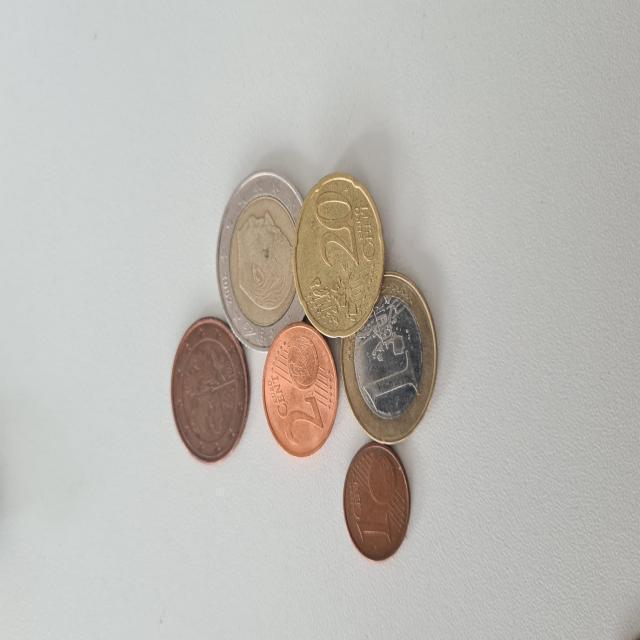1c: (342, 442, 414, 562)
1e: (340, 269, 440, 446)
20c: (292, 175, 388, 339)
2c: (171, 316, 249, 460), (262, 324, 334, 456)
2e: (218, 169, 310, 351)
